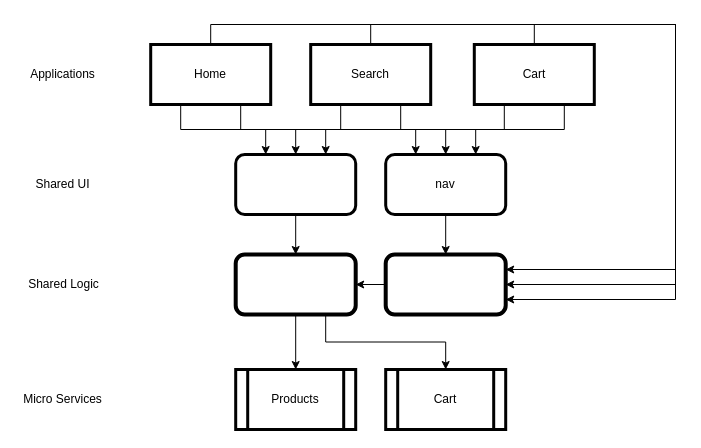
This 701x448 diagram has some shape labels left out. The box of each missing label's shape, as (x1, y1, x2, y2) in pixels:
components: (234, 152, 357, 216)
logic: (233, 252, 357, 316)
store: (383, 252, 507, 316)
